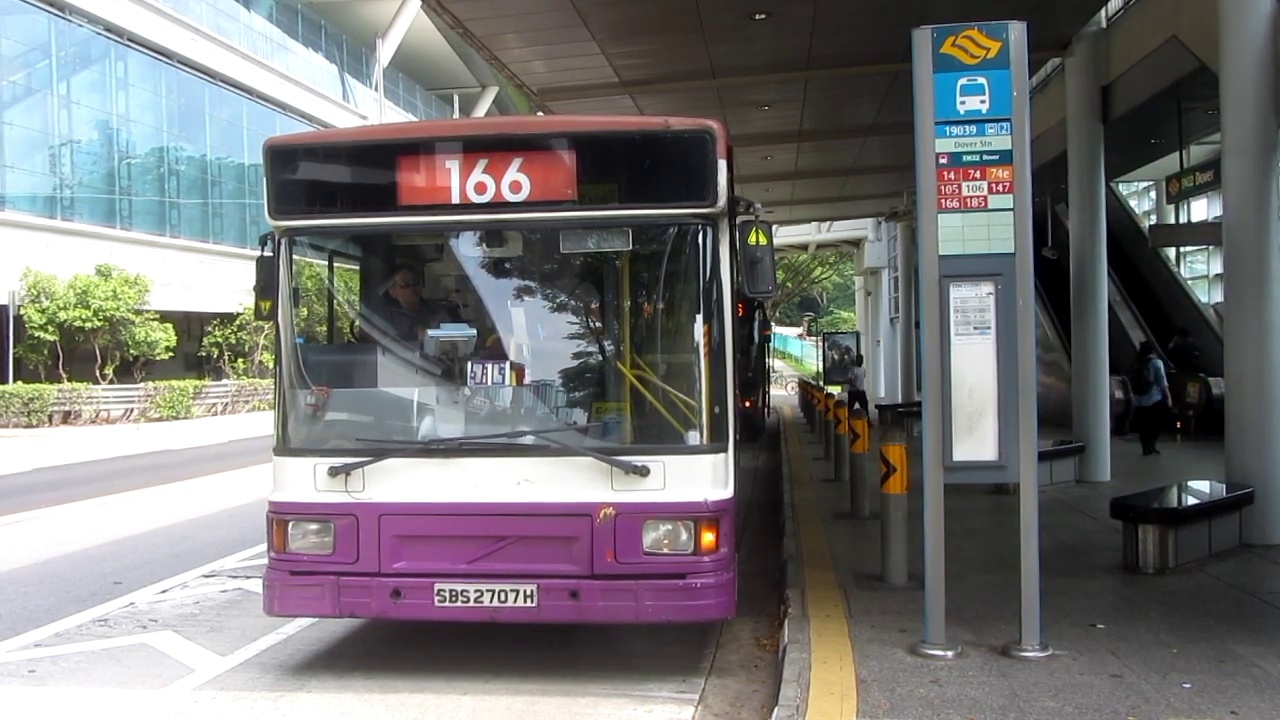bus panel: (393, 148, 581, 207)
